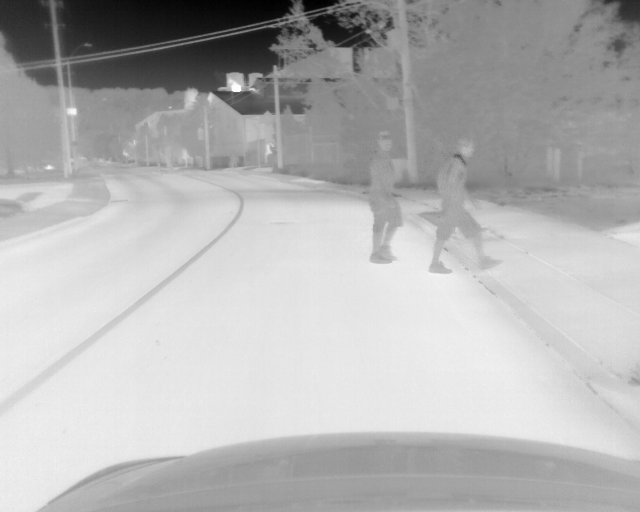people: (428, 138, 501, 275), (363, 131, 403, 264)
